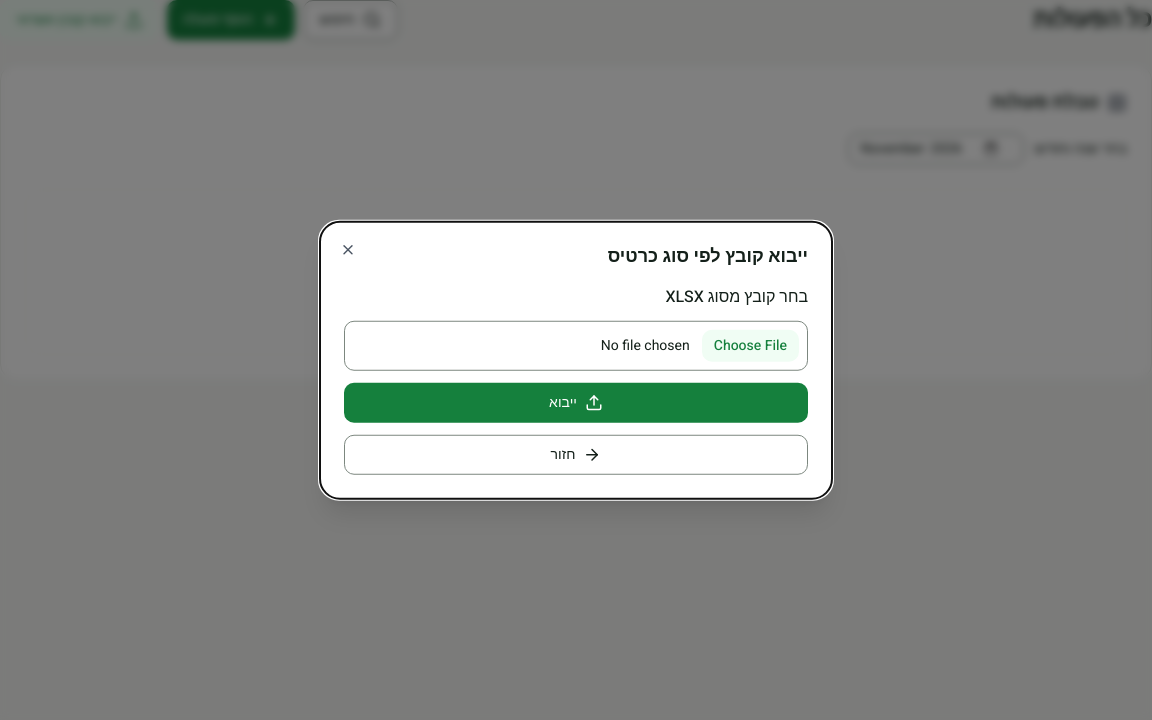
Scenario: import result › a clean import reports the rows written and keeps the dialog open
The image size is (1152, 720).
Earlier steps of the test are not shown.
Step 1. Click the button "ייבוא" → [576, 402], box [344,382,808,422]
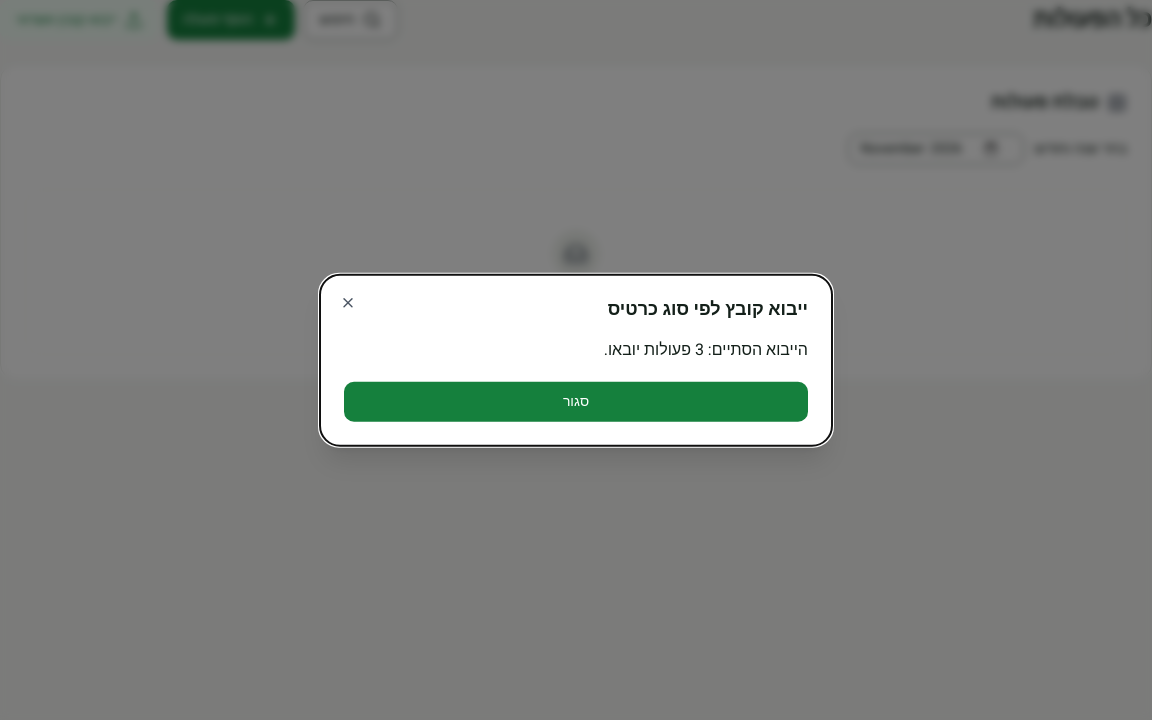
Expected: the button "סגור" is shown, [344,381,808,421]
